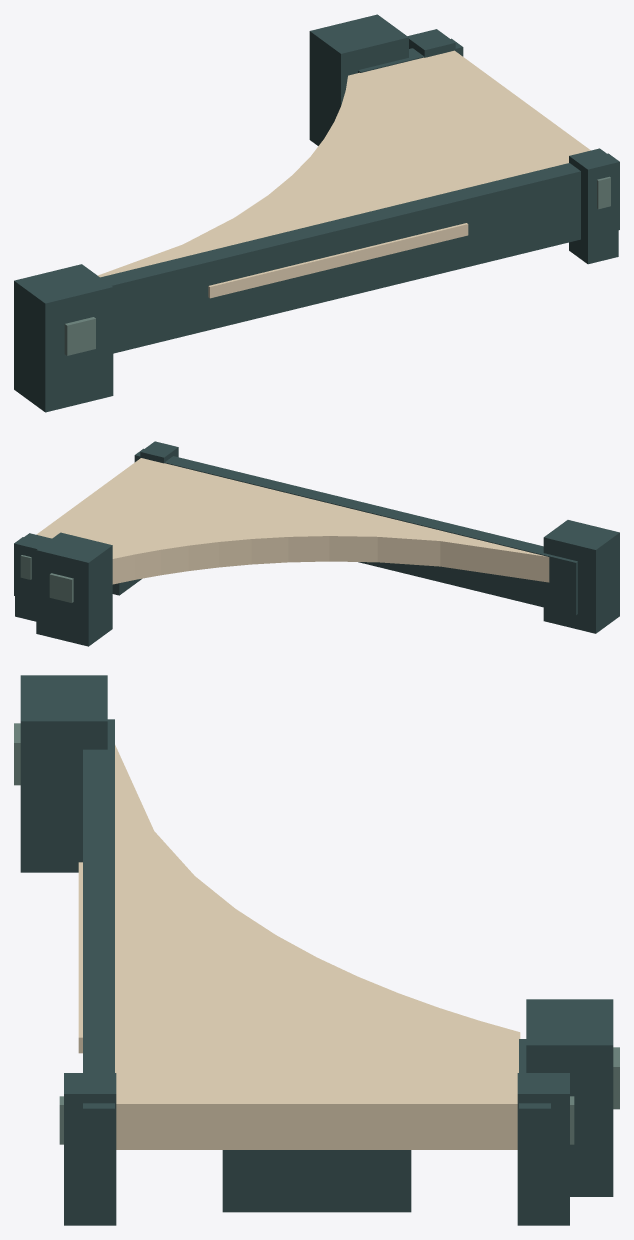
Rendered from Pier_Angled_50.glb.
3 renders of one model, top to bottom at view 1: azimuth 30°, elevation 25°; view 2: azimuth 150°, elevation 25°; view 3: azimuth 270°, elevation 25°, orthographic. The views are drawn at different scales.
Parts seen in each view (by area): view 1: Pier_Angled_50; view 2: Pier_Angled_50; view 3: Pier_Angled_50.
Boxes of the visible parts, box(x1,y1,x2,y2) form: Pier_Angled_50: box(14, 14, 619, 412); Pier_Angled_50: box(14, 441, 619, 646); Pier_Angled_50: box(14, 675, 619, 1225).
Bounding box in the file's own units: 6.6 × 1.15 × 4.17.
